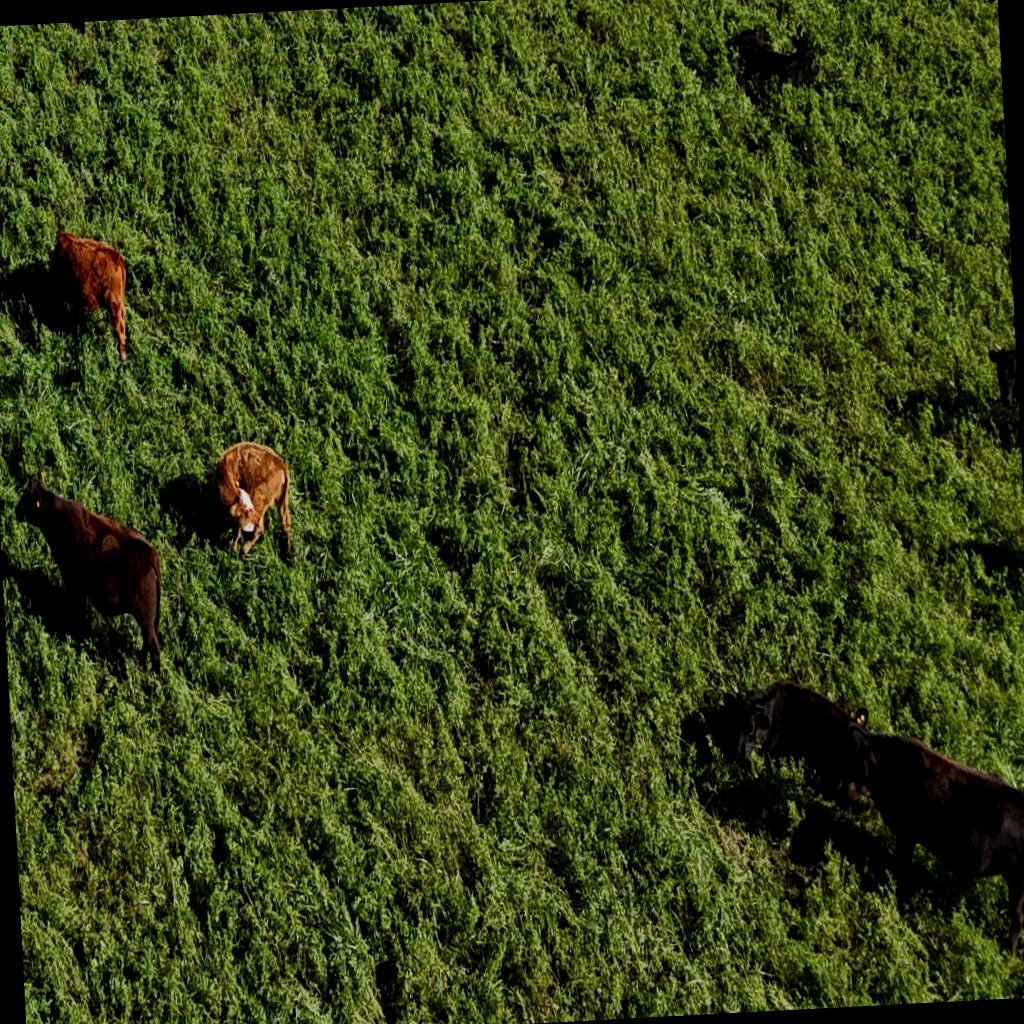cow: (821, 715, 1024, 968), (12, 456, 176, 684), (722, 676, 880, 808), (38, 219, 144, 372), (210, 436, 300, 568), (718, 15, 824, 104), (987, 345, 1019, 410)
